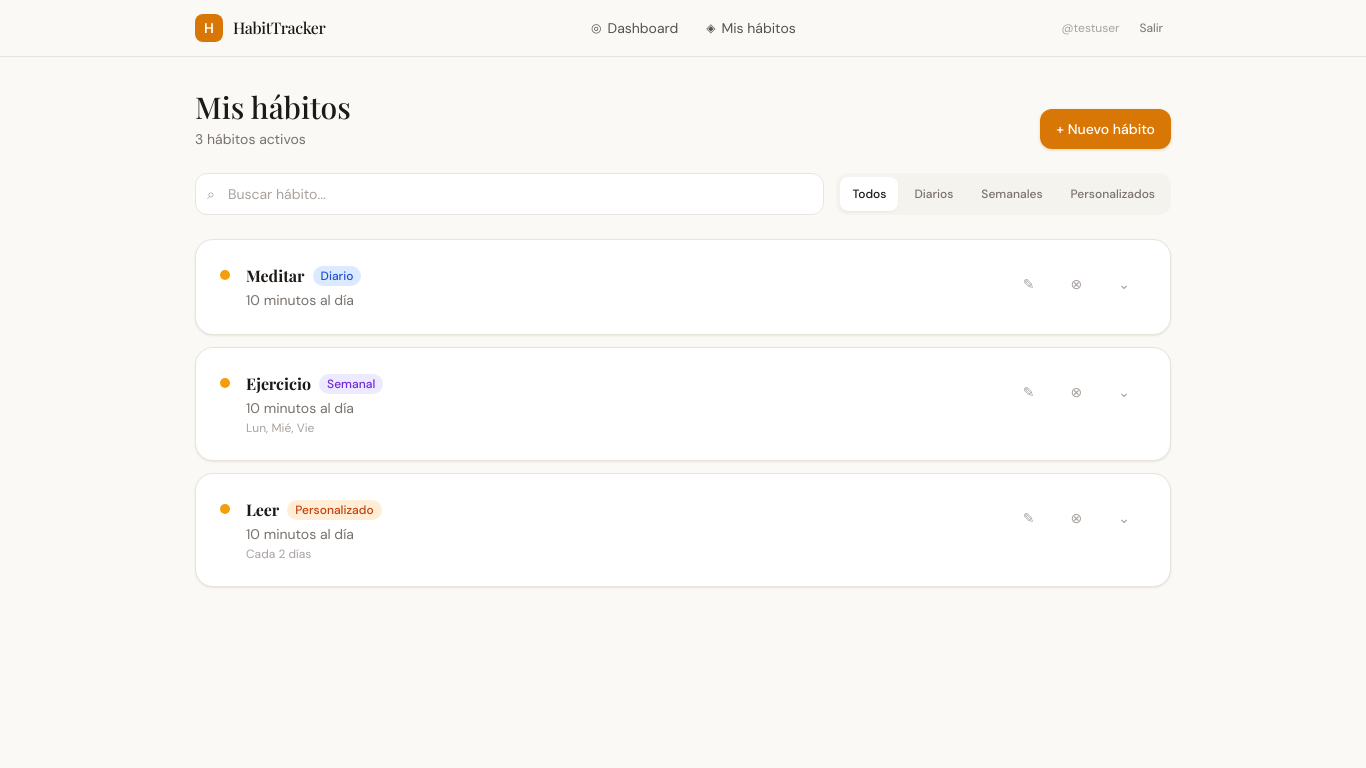
Test: HabitsPage — filtros de frecuencia › filtro "Semanales" solo muestra hábitos WEEKLY
Expected: the heading "Ejercicio" is shown, [246,372,311,396]
Click the button "Semanales" at (1012, 194), box [969,177,1054,211]
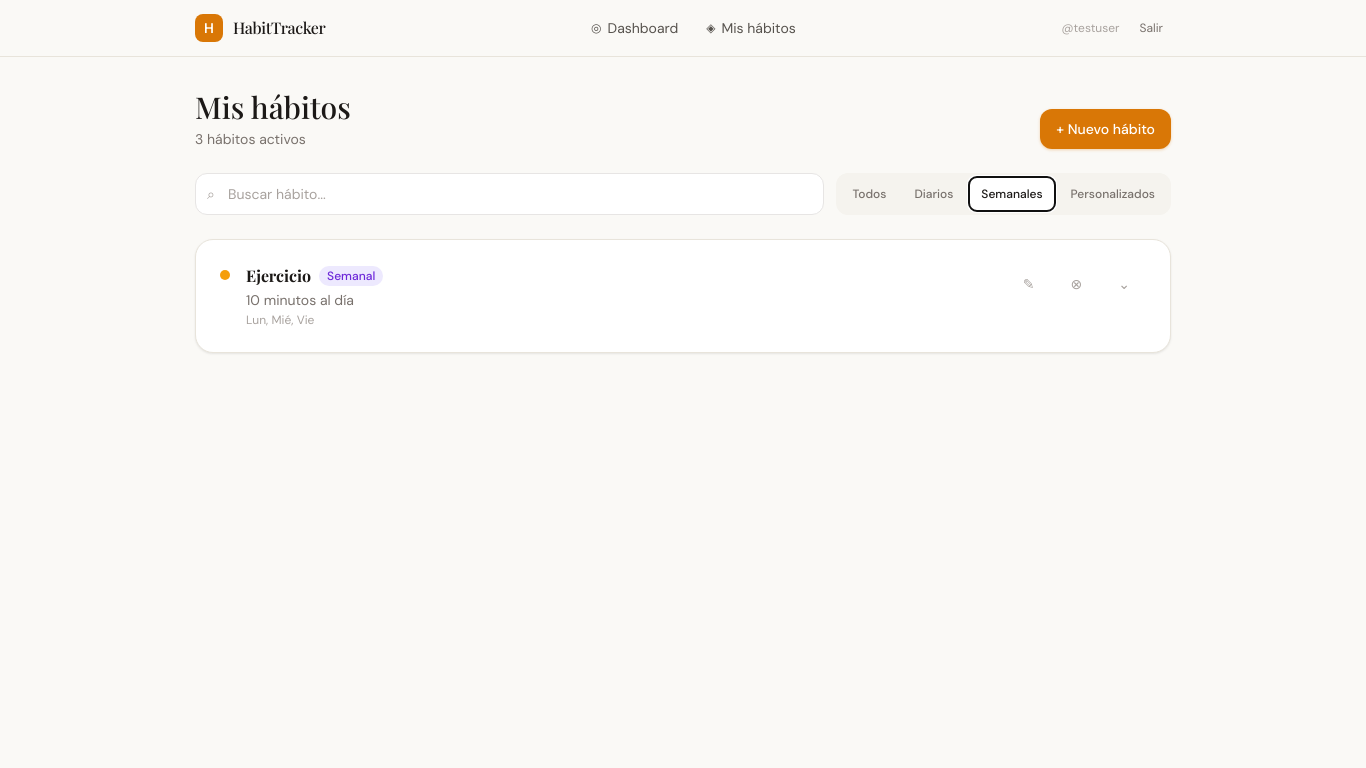
Expected: the heading "Ejercicio" is shown, [246,264,311,288]
Expected: the heading "Meditar" is gone
Expected: the heading "Leer" is gone
